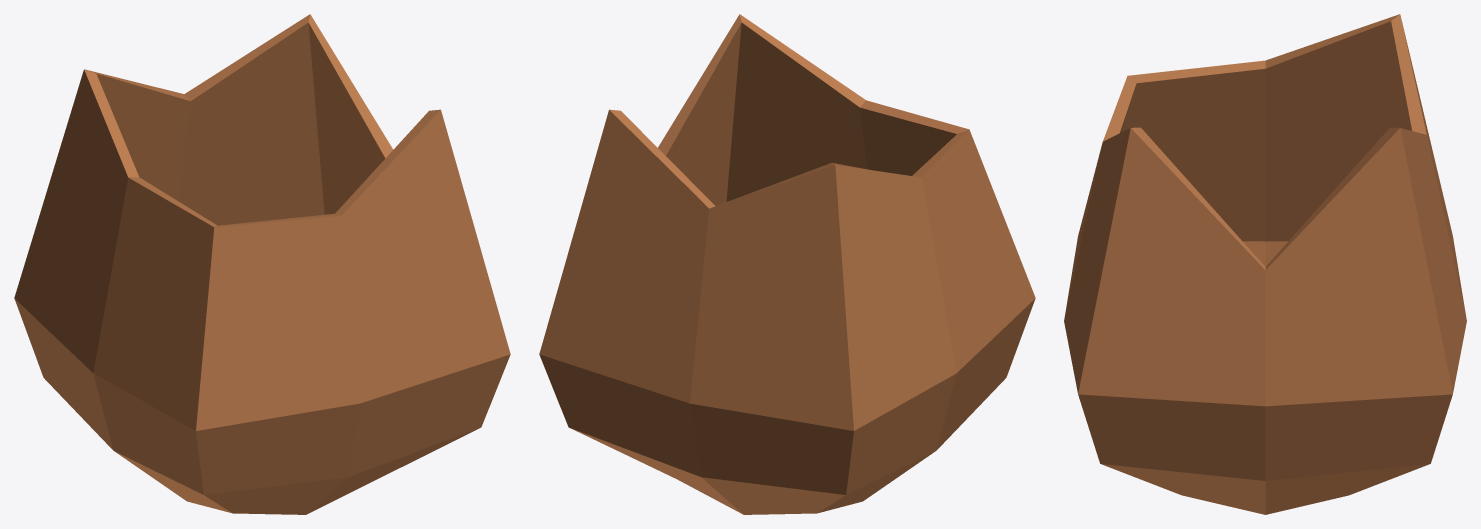
File: eggShell01.fbx
3 views of the same model, side by side, from view 1: azimuth 30°, elevation 25°; view 2: azimuth 150°, elevation 25°; view 3: azimuth 270°, elevation 25° (orthographic). The views are drawn at different scales.
Visible parts, largest first — view 1: eggShell01; view 2: eggShell01; view 3: eggShell01.
Part boxes in pixels (x1,y1,x2,y2): eggShell01: (14,14,510,514); eggShell01: (539,14,1035,514); eggShell01: (1064,14,1466,514).
Bounding box in the file's own units: 8 × 8.9 × 8.
1 material, 1 textured.
